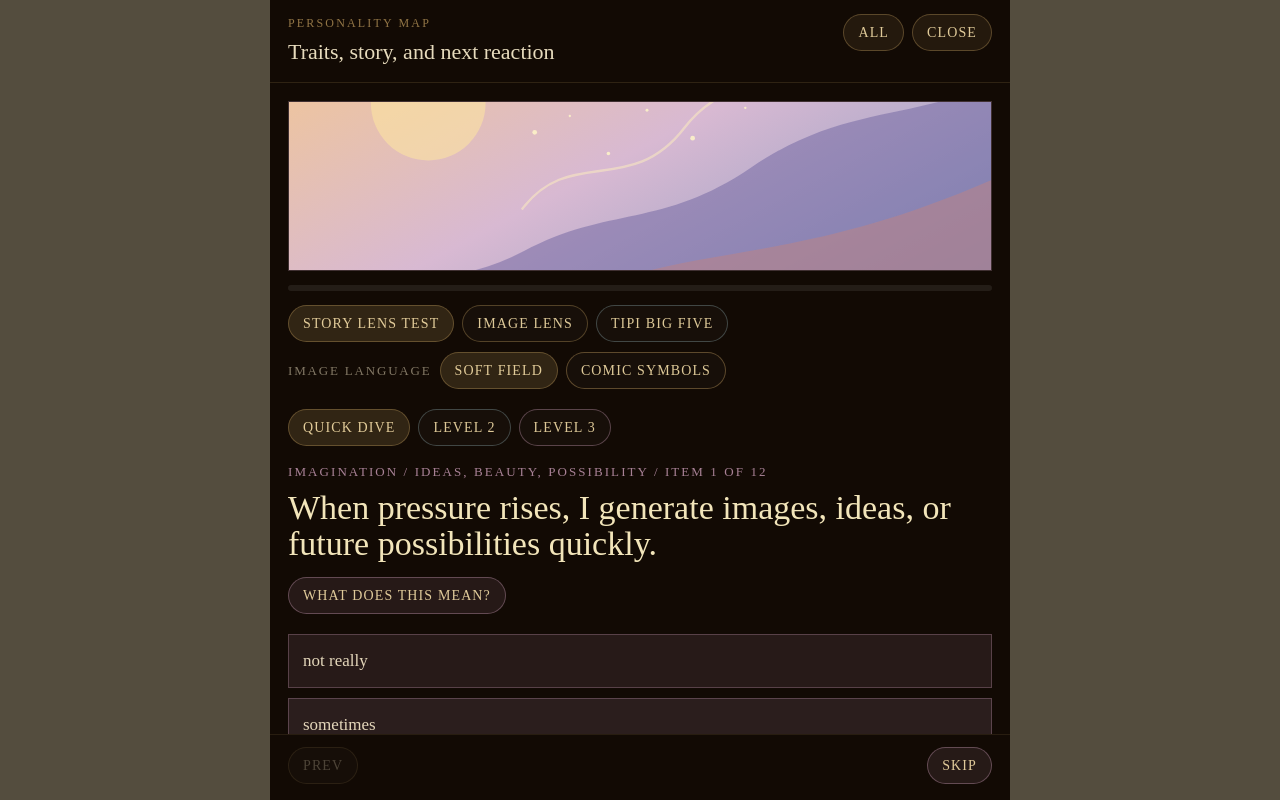
Scenario: PersonalityTypeProgram › supports deeper Colourmap levels beyond the quick dive
Click the button "Level 2" at (465, 428), box 418,409 -> 511,446
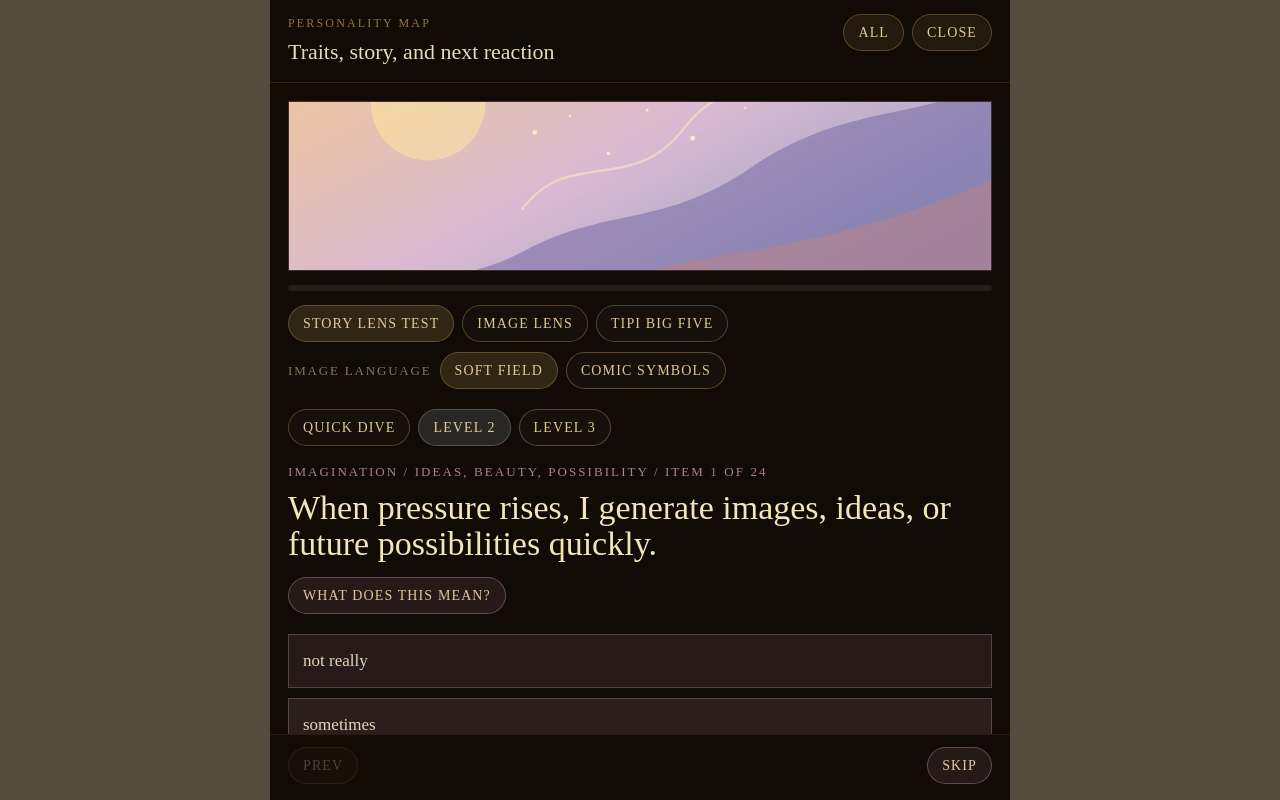
Result: the text "Imagination / ideas, beauty, possibility / item 1 of 24" is shown at 288,464 -> 768,479
Click the button "Level 3" at (565, 428), box 519,409 -> 611,446
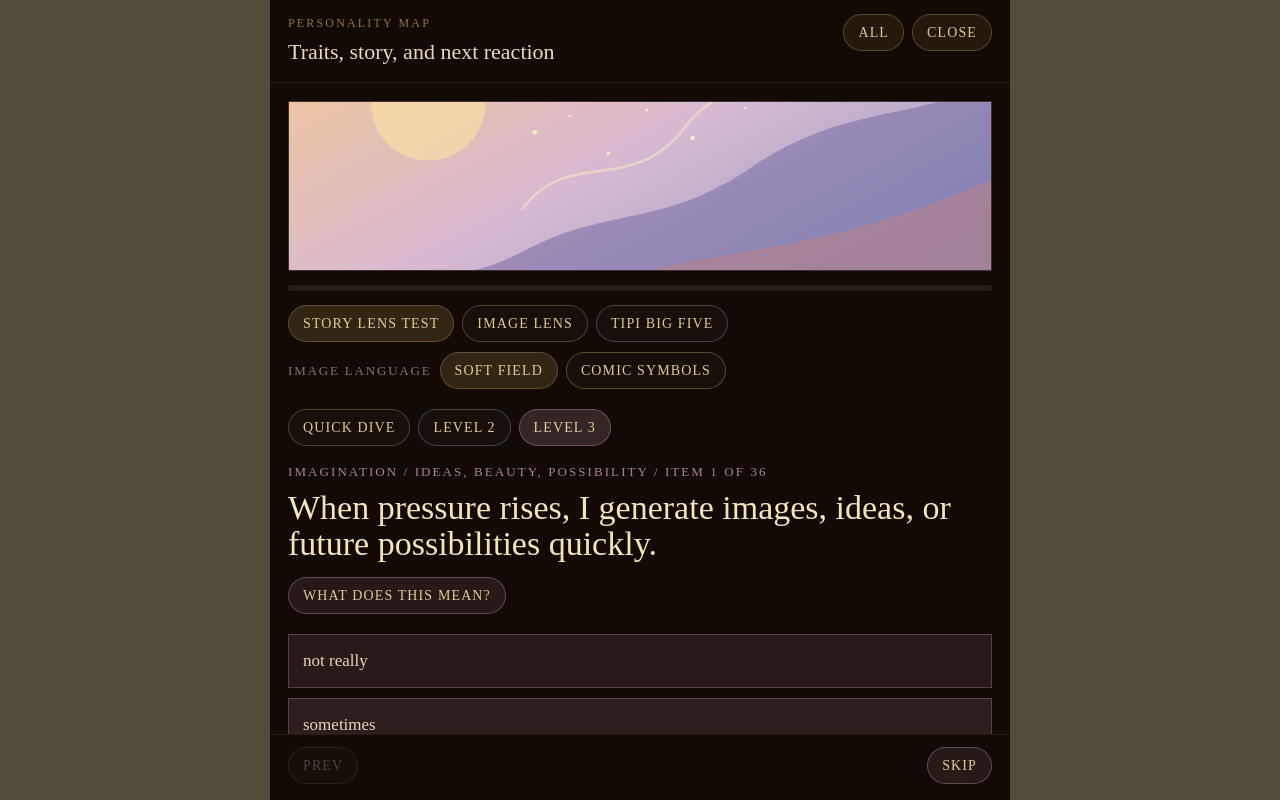
Result: the text "Imagination / ideas, beauty, possibility / item 1 of 36" is shown at 288,464 -> 768,479
